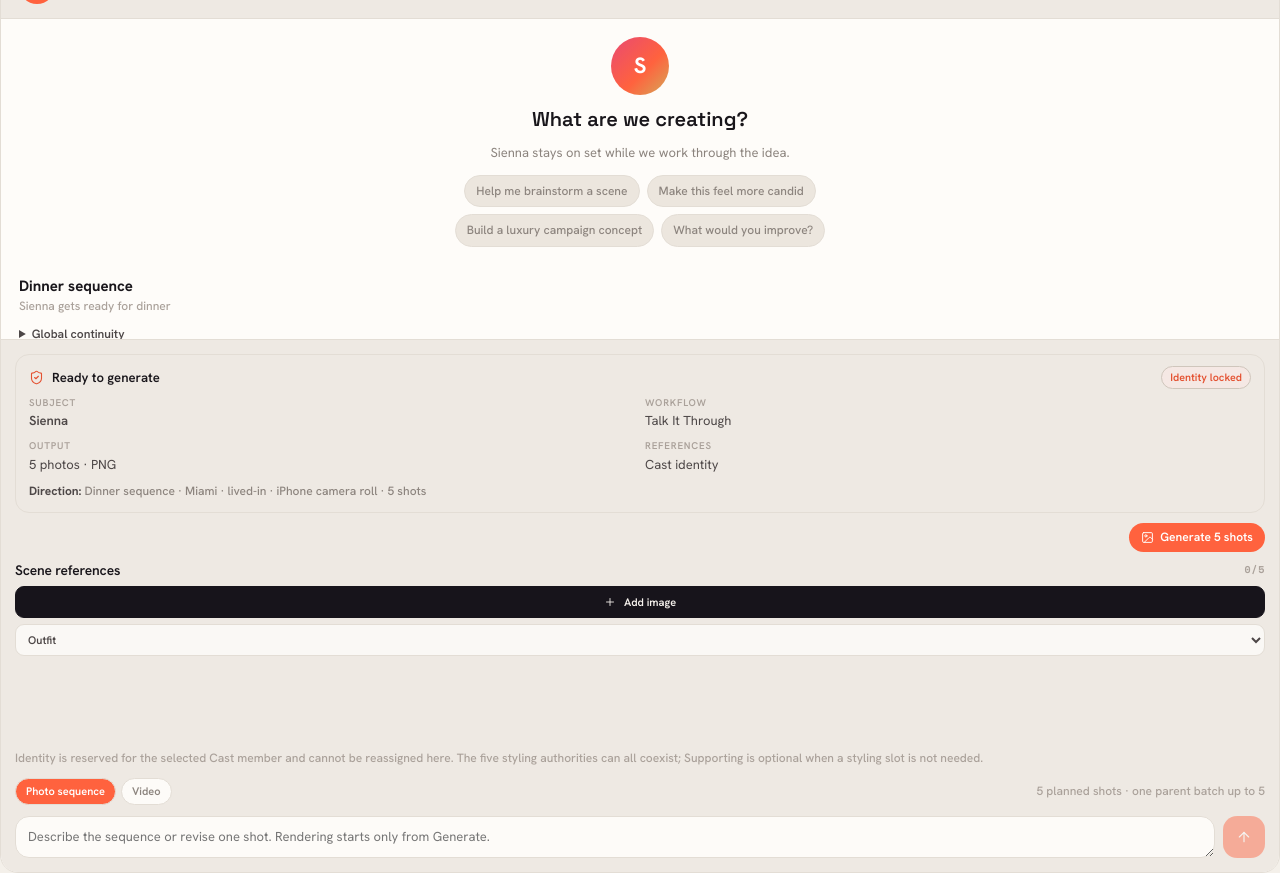
Scene Flow planning versus rendering › fails closed on malformed chat scene and preserves the settled board
The width and height of the screenshot is (1280, 873).
(page scrolled)
Replace the text in the text box with placeholder "Describe the sequence" with "Change shot two only." at (615, 837), box [15,816,1215,858]
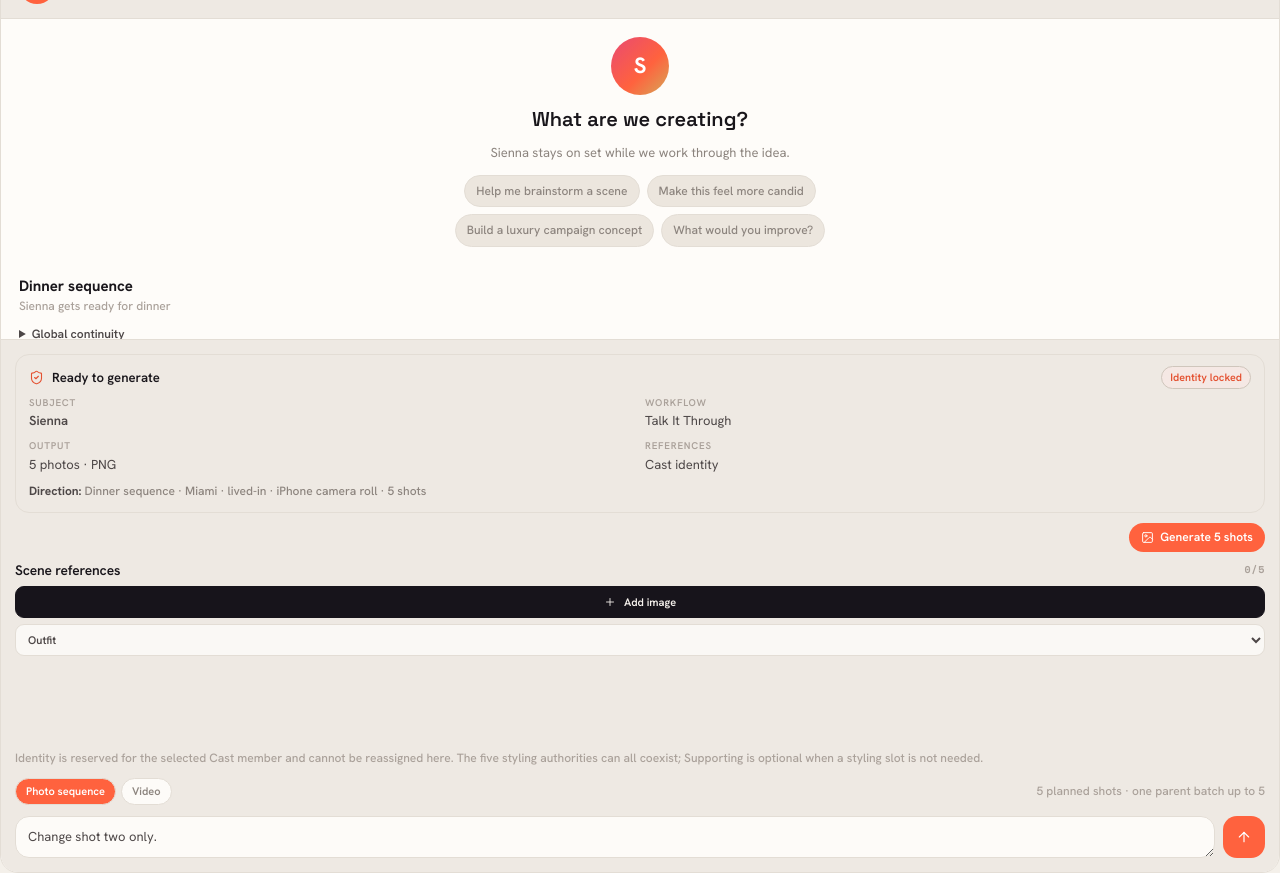
Click the button titled "Send" at (1244, 837), box [1223,816,1265,858]
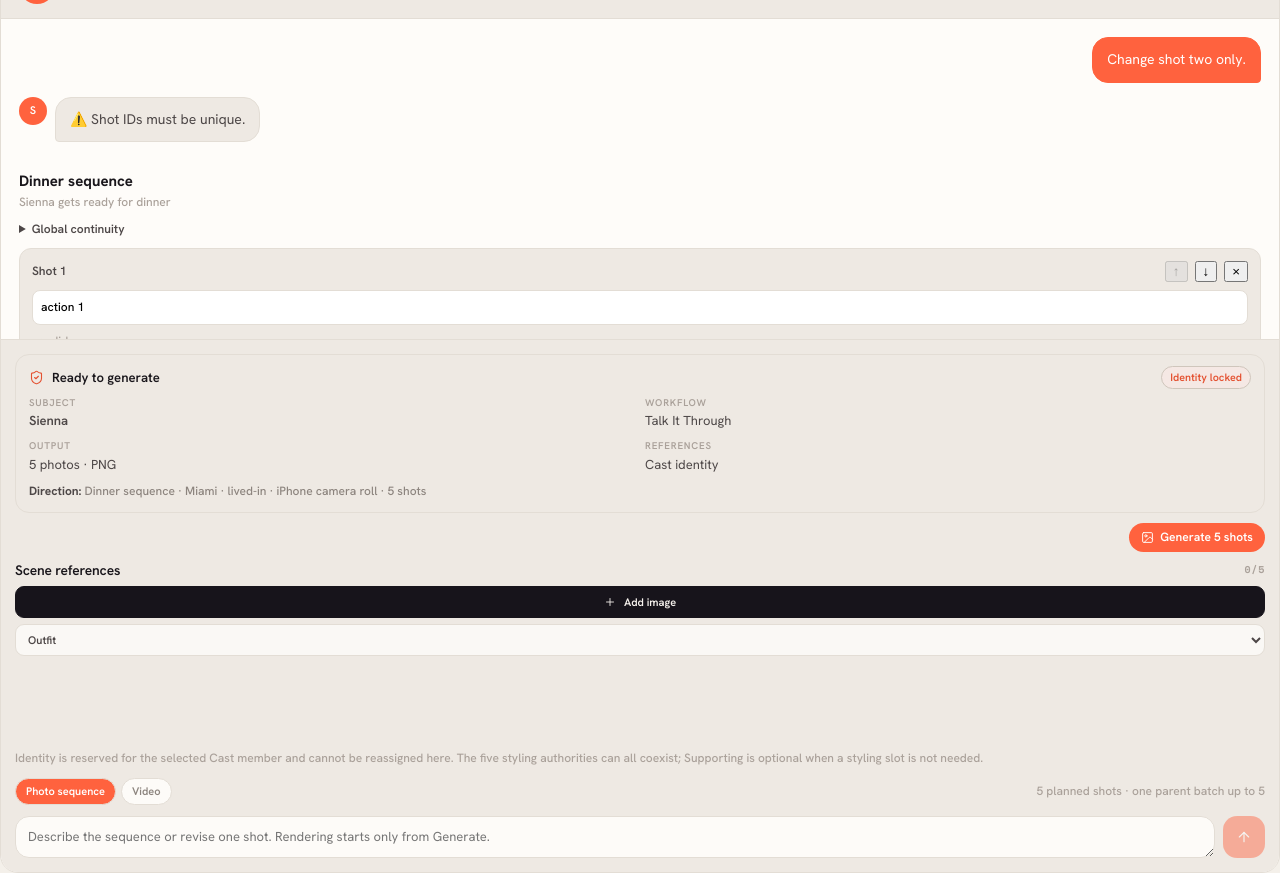
Now the text "⚠️ Shot IDs must be unique." is shown, box [55,97,260,142]
